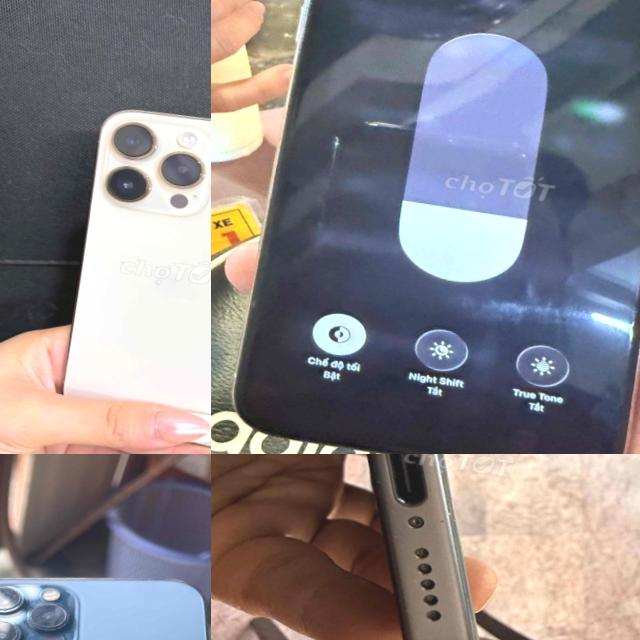gen_11: (225, 0, 640, 454)
gen_12_13: (0, 547, 211, 640)
gen_14: (41, 98, 211, 454)
gen_17: (254, 454, 565, 640)
